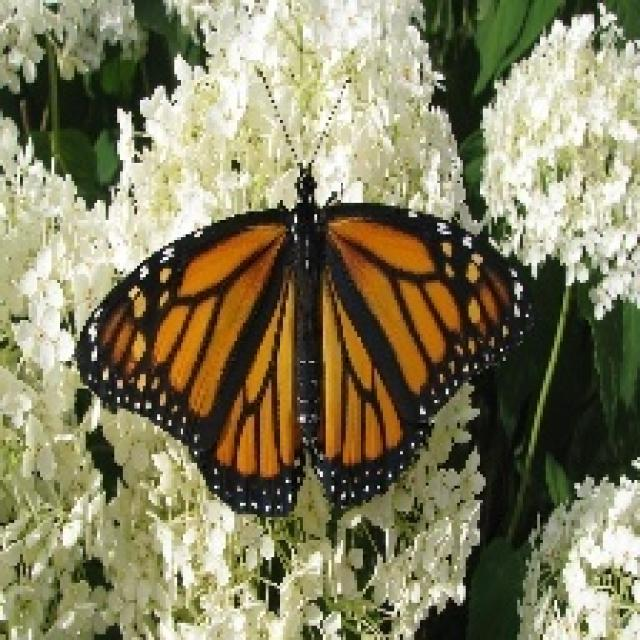butterfly: (72, 60, 534, 517)
